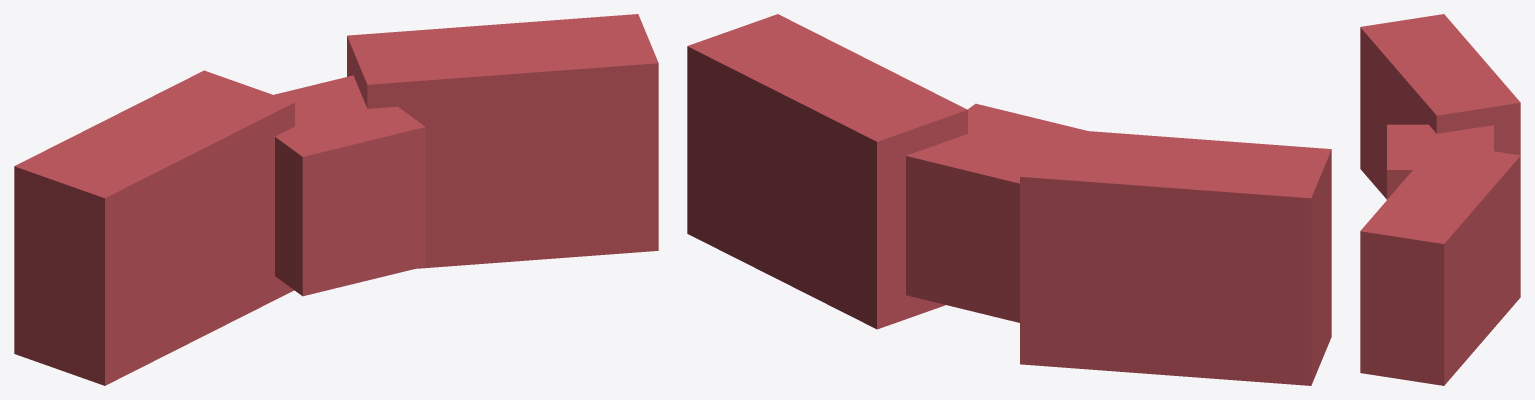
Rendered from bowtie.glb.
3 renders of one model, left to right at view 1: azimuth 30°, elevation 25°; view 2: azimuth 150°, elevation 25°; view 3: azimuth 270°, elevation 25°, orthographic. The views are drawn at different scales.
Visible parts, largest first — view 1: fluegel-1, fluegel1, knoten.001; view 2: fluegel-1, fluegel1, knoten.001; view 3: fluegel1, fluegel-1, knoten.001.
Part boxes in pixels (box(x1,y1,x2,y2)): fluegel-1: box(14, 70, 294, 385); fluegel1: box(347, 14, 658, 268); knoten.001: box(274, 75, 425, 296); fluegel-1: box(1020, 127, 1331, 385); fluegel1: box(687, 14, 967, 329); knoten.001: box(906, 103, 1086, 322); fluegel1: box(1360, 142, 1520, 385); fluegel-1: box(1360, 14, 1520, 199); knoten.001: box(1387, 124, 1493, 199).
Size of the model in its own units: 0.1218 by 0.035 by 0.0359.
